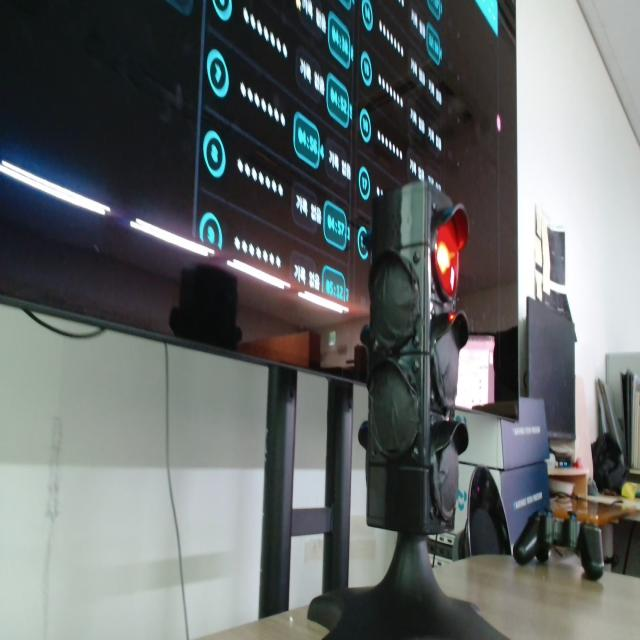red_light: (436, 220, 459, 298)
